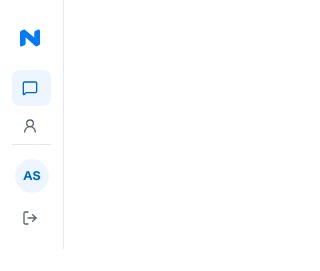
Test: AppSidebar › abre o menu recolhido ao clicar em um item de navegação
Click the link named "Atendimento": (32, 88) [12,70,51,106]
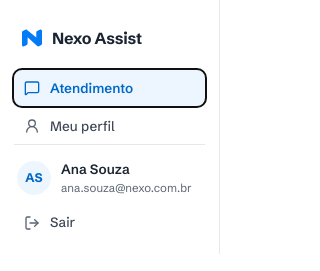
Expected: the button with aria-label "Recolher menu" is expanded, [14,20,205,56]
